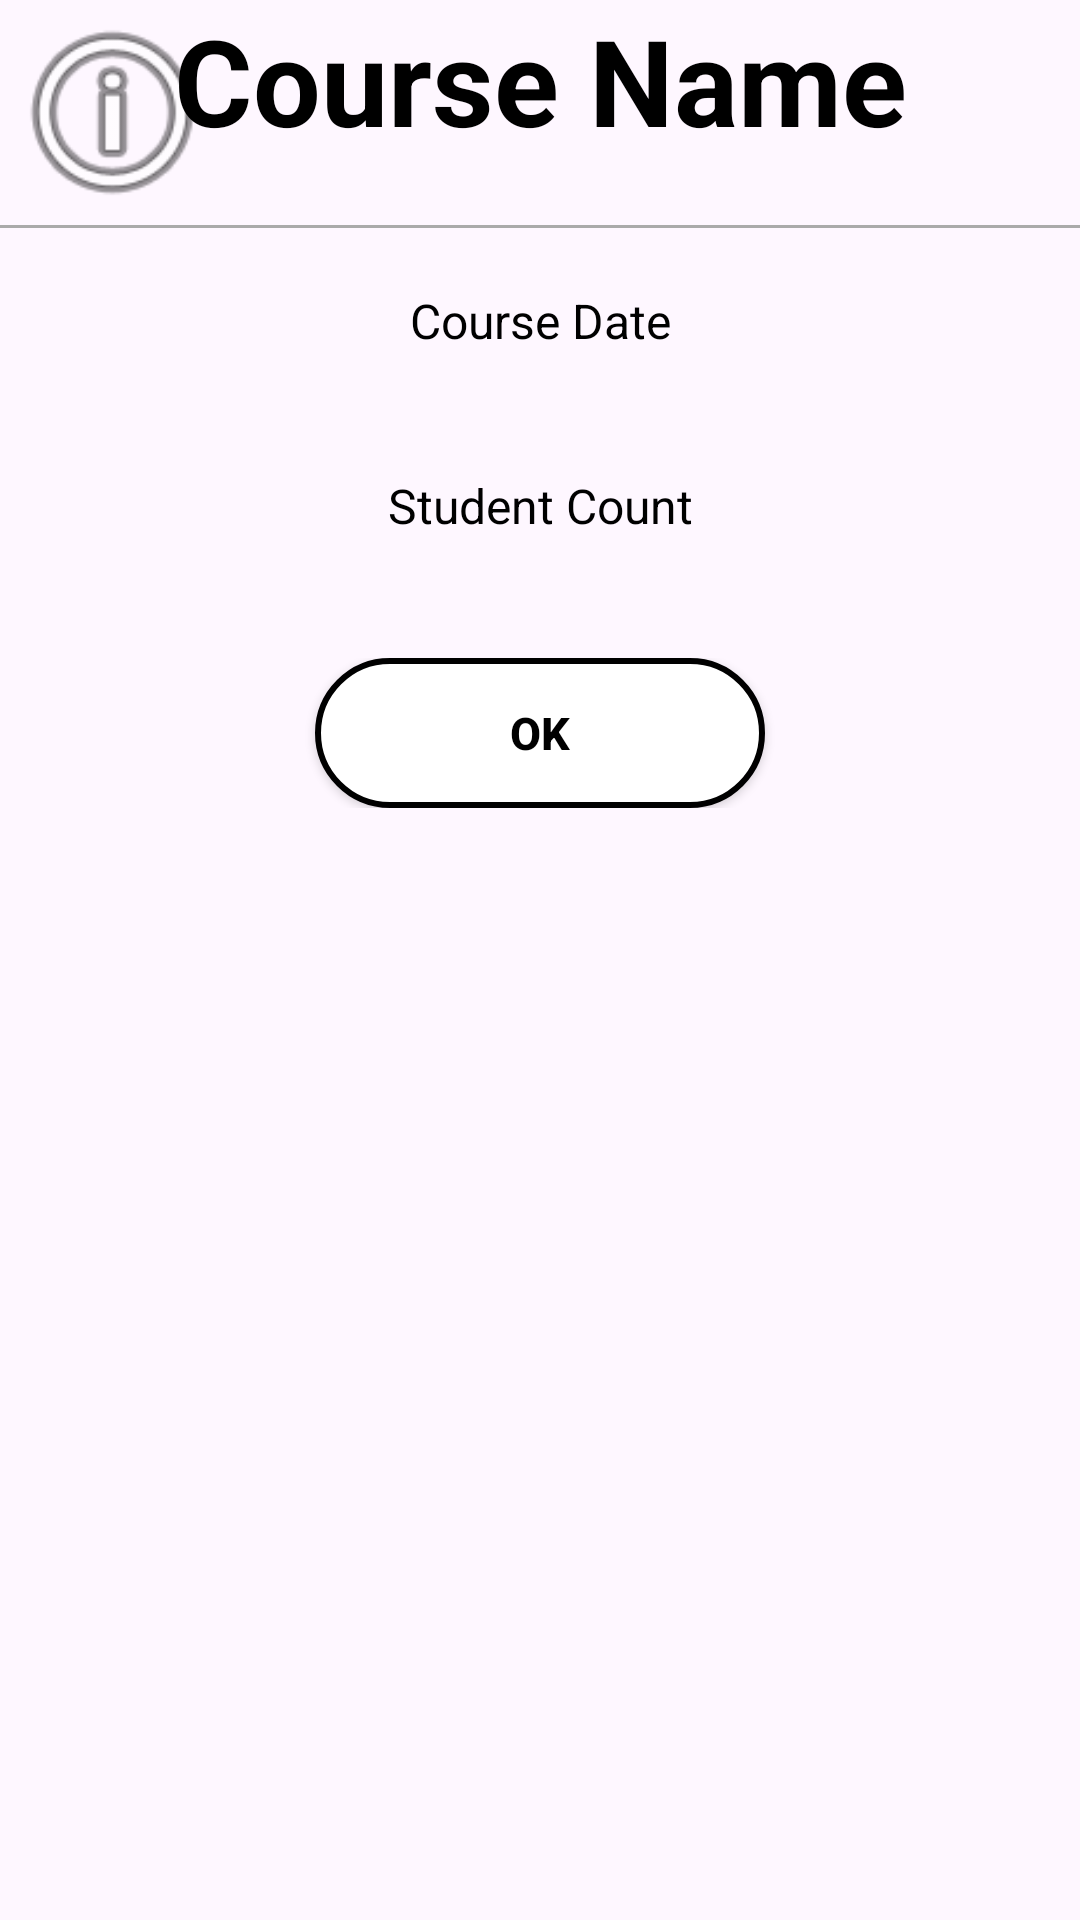

Where icons sit on this 1080px x 1920px app screen, as Rect(x1, y1, x2, y2):
info details: Rect(31, 31, 225, 194)
